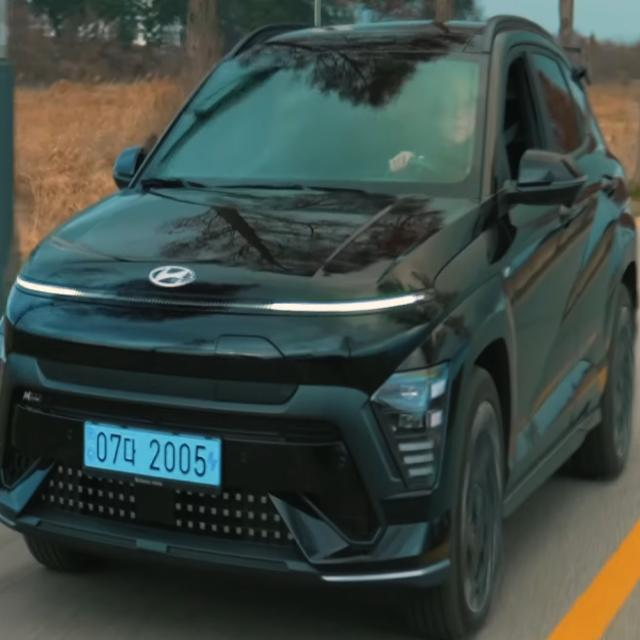car: (65, 409, 247, 504)
carev: (206, 436, 223, 490), (83, 423, 97, 471)
